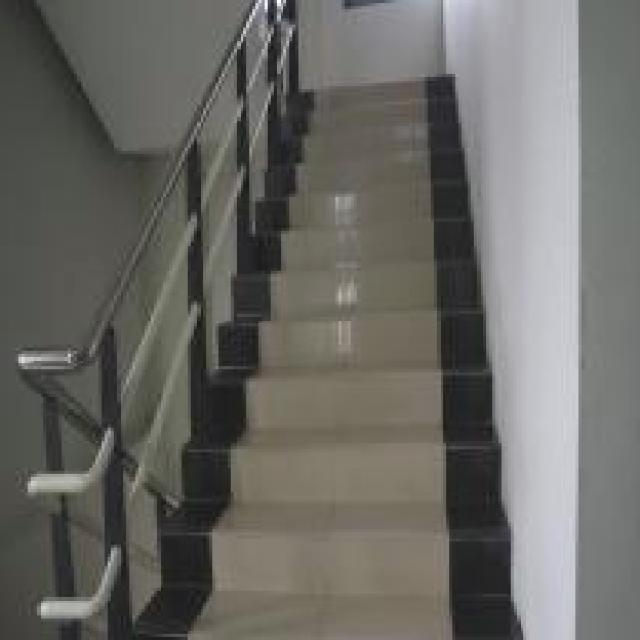upstair: (275, 81, 499, 640)
